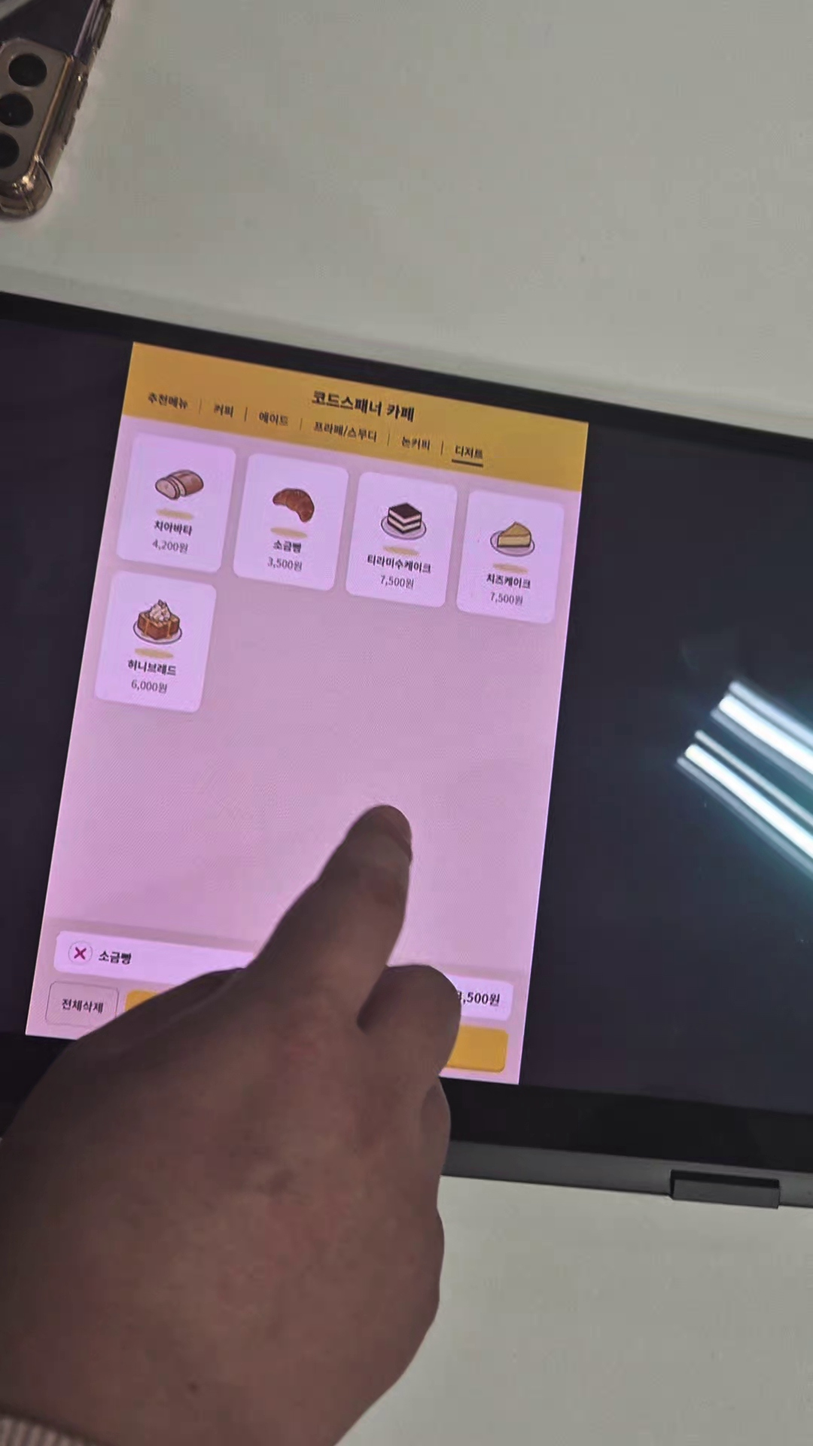action_button: (47, 981, 118, 1028)
cart_item: (52, 932, 513, 1019)
category_tab: (312, 420, 379, 444), (147, 390, 190, 409), (258, 408, 291, 427), (399, 433, 433, 451), (453, 442, 485, 460), (213, 402, 236, 418)
menu_back: (96, 573, 215, 712), (117, 434, 236, 571), (233, 454, 346, 590), (346, 472, 456, 606), (457, 490, 565, 623)
menu_name: (366, 553, 431, 576), (128, 658, 177, 676), (487, 572, 532, 591), (153, 519, 192, 535), (273, 539, 301, 554)
menu_price: (130, 677, 169, 695), (379, 573, 414, 590), (265, 555, 302, 571), (152, 539, 190, 554), (490, 591, 524, 606)
